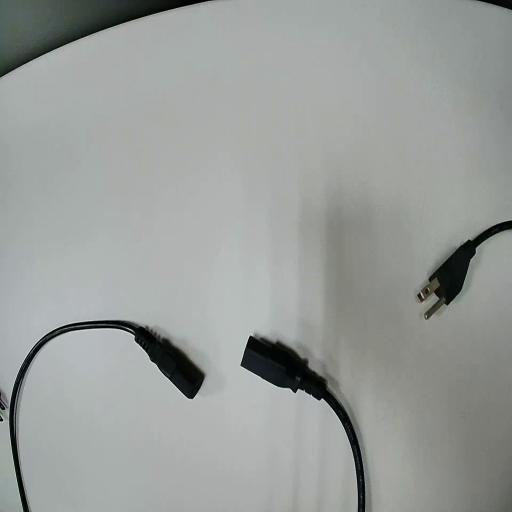wire: (10, 321, 203, 511), (242, 337, 364, 511), (428, 221, 511, 314)
